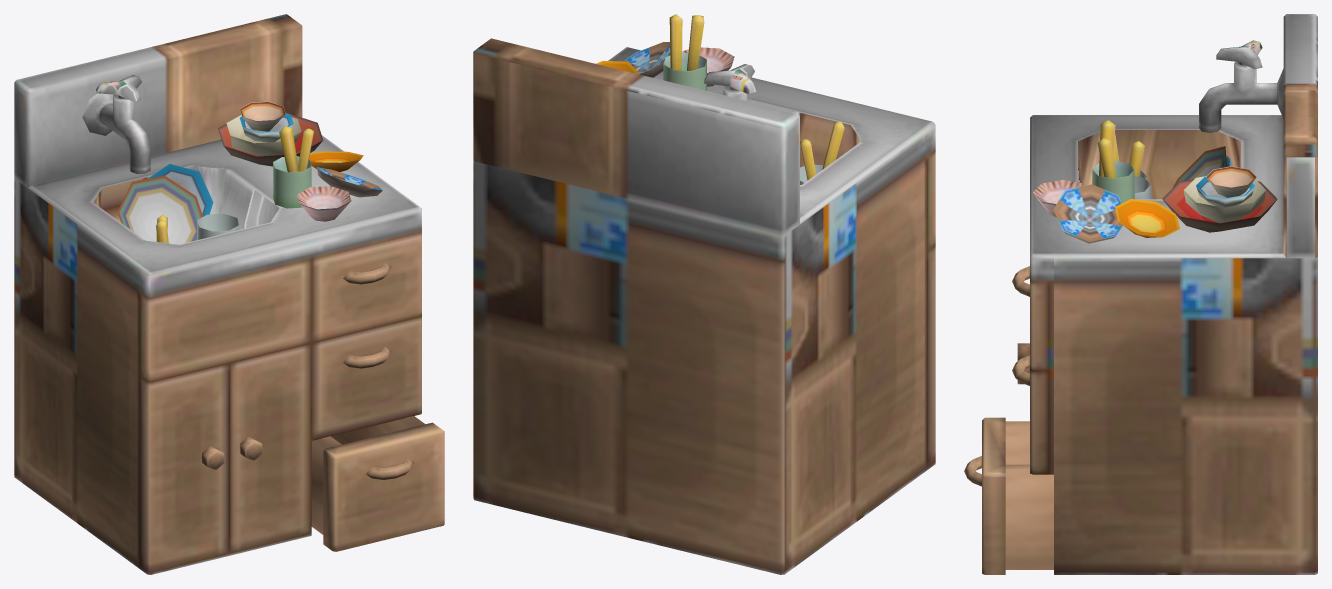
File: int_lse_sink.dae
3 views of the same model, side by side, from view 1: azimuth 30°, elevation 25°; view 2: azimuth 150°, elevation 25°; view 3: azimuth 270°, elevation 25° (orthographic). The views are drawn at different scales.
Parts seen in each view (by area): view 1: int_lse_sink; view 2: int_lse_sink; view 3: int_lse_sink.
Boxes of the visible parts, box(x1,y1,x2,y2) form: int_lse_sink: box(14, 14, 444, 574); int_lse_sink: box(473, 14, 935, 574); int_lse_sink: box(964, 14, 1317, 574).
Size of the model in its own units: 29 by 40.49 by 30.53.
Materials: 1 (1 with a texture image).
